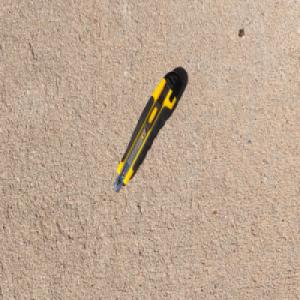Cutter: (112, 70, 182, 193)
